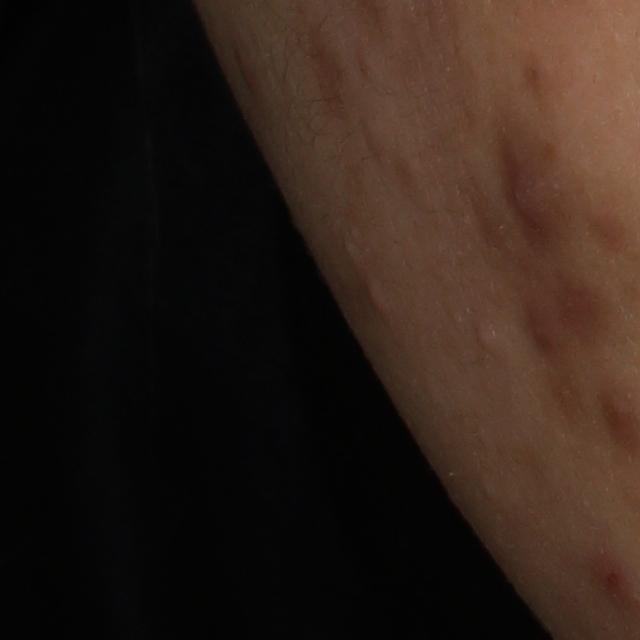comedo: (474, 323, 503, 361)
papule: (588, 555, 637, 605)
